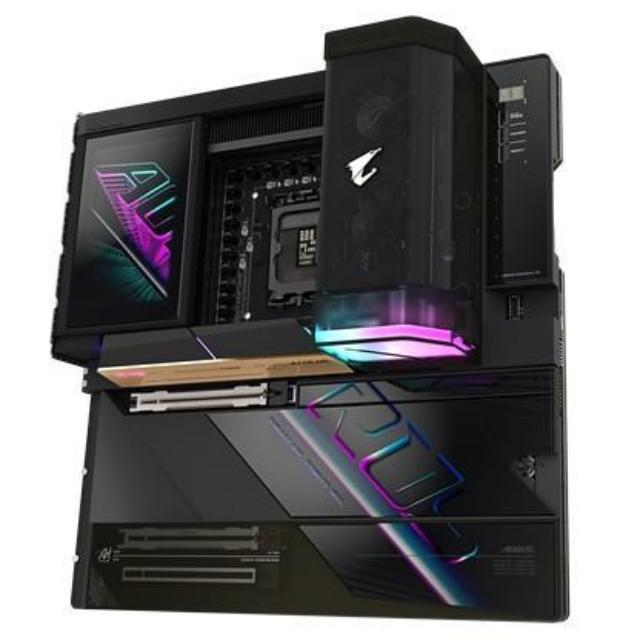Mainboard: (47, 8, 579, 634)
